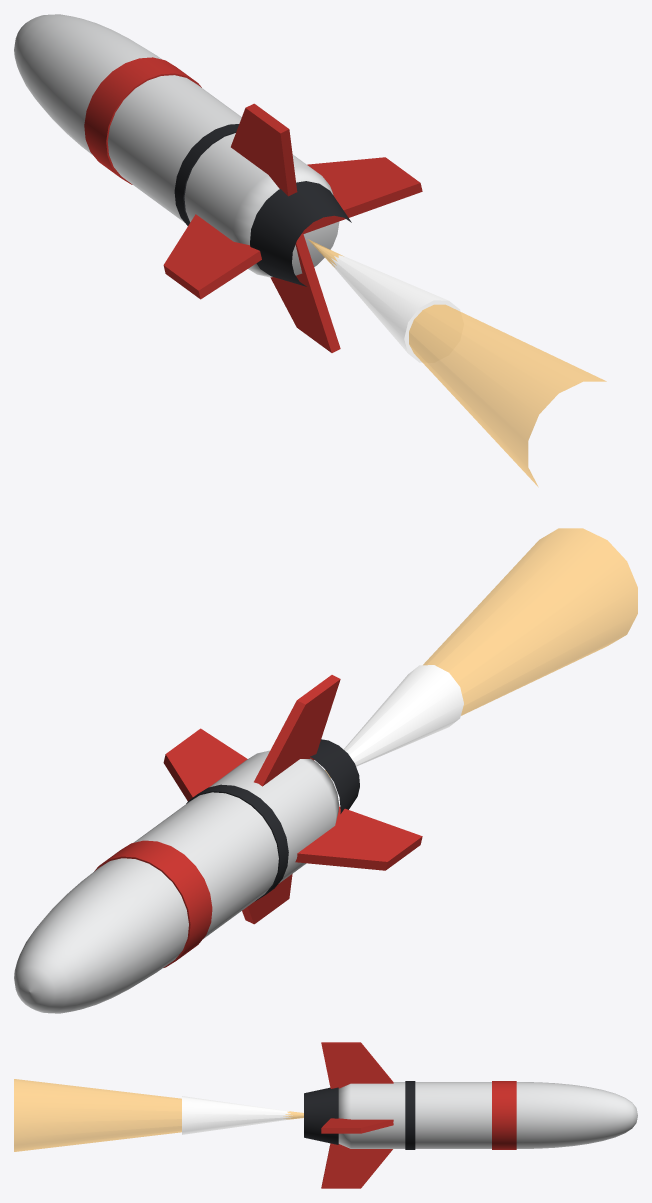
Rendered from rocket.glb.
3 views of the same model, one above another, from view 1: azimuth 30°, elevation 25°; view 2: azimuth 150°, elevation 25°; view 3: azimuth 270°, elevation 25° (orthographic). The views are drawn at different scales.
Visible parts, largest first — view 1: spin, flame; view 2: spin, flame; view 3: spin, flame.
Boxes of the visible parts, left/top/right/bottom form: spin: left=14, top=14, right=422, bottom=352; flame: left=308, top=239, right=606, bottom=487; spin: left=14, top=675, right=422, bottom=1013; flame: left=325, top=528, right=637, bottom=777; spin: left=304, top=1042, right=637, bottom=1188; flame: left=14, top=1079, right=303, bottom=1151.
Bounding box in the file's own units: 0.295 × 0.295 × 1.26.
